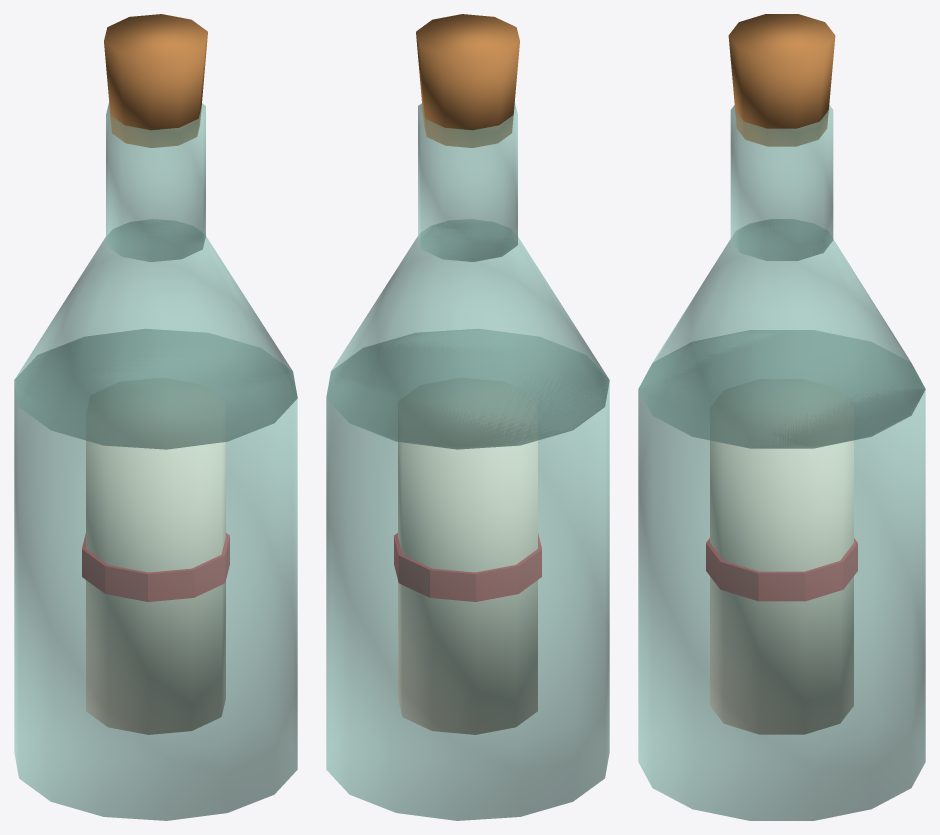
Rendered from message_bottle.glb.
3 views of the same model, side by side, from view 1: azimuth 30°, elevation 25°; view 2: azimuth 150°, elevation 25°; view 3: azimuth 270°, elevation 25° (orthographic).
Parts seen in each view (by area): view 1: curio_message_bottle; view 2: curio_message_bottle; view 3: curio_message_bottle.
Boxes of the visible parts, <box> form: curio_message_bottle: <box>14,14,297,820</box>; curio_message_bottle: <box>326,14,609,820</box>; curio_message_bottle: <box>638,14,925,820</box>.
Size of the model in its own units: 0.1365 by 0.39 by 0.14.
